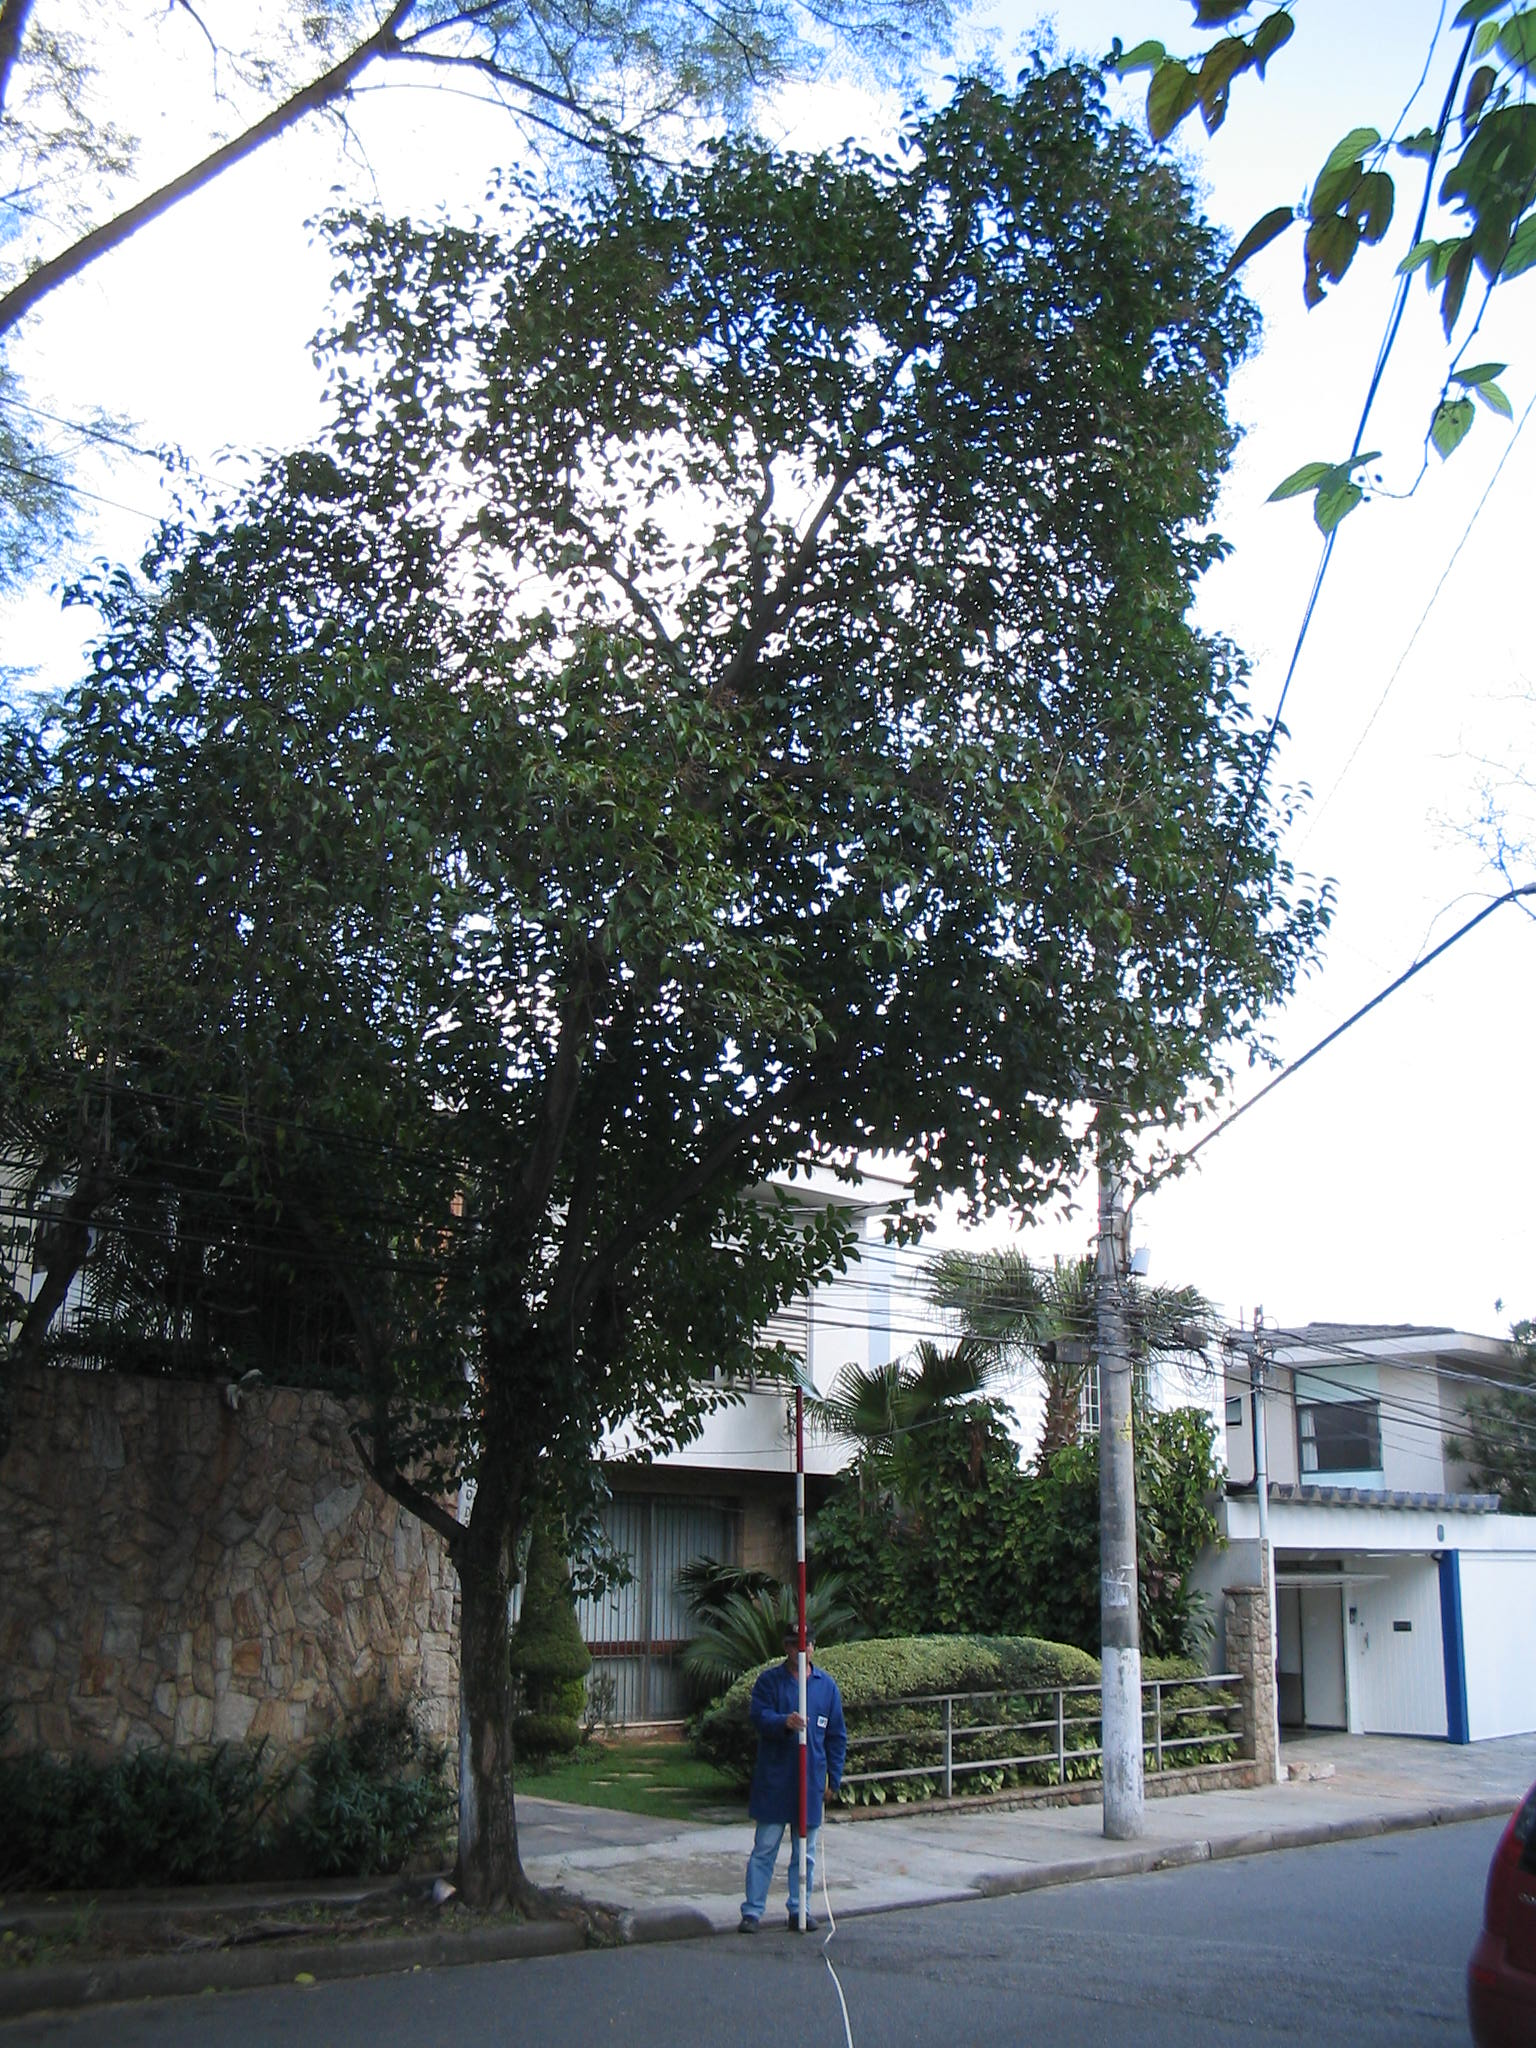crown: (35, 58, 1346, 1529)
stem: (399, 1542, 578, 1917)
stick: (757, 1384, 839, 1930)
tree: (39, 55, 1349, 1925)
